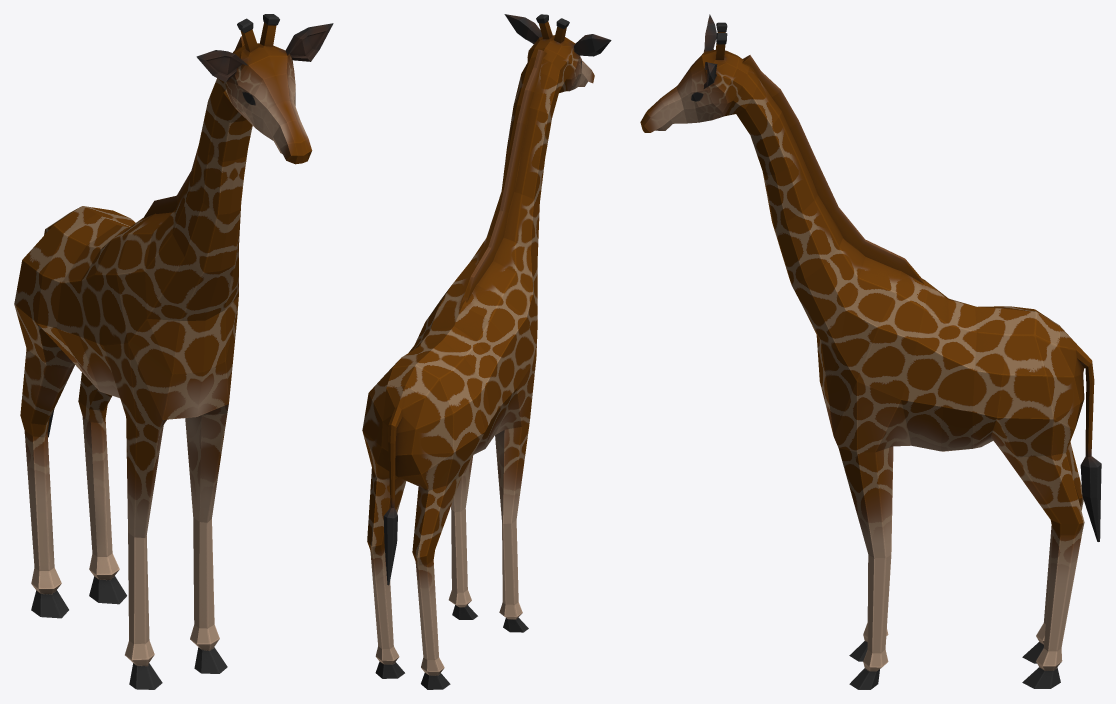
Rendered from Giraffe.obj.
The picture shows the model from 3 angles, left to right: view 1: azimuth 30°, elevation 25°; view 2: azimuth 150°, elevation 25°; view 3: azimuth 270°, elevation 25°; orthographic projection. The views are drawn at different scales.
Parts seen in each view (by area): view 1: polySurface2; view 2: polySurface2; view 3: polySurface2.
Boxes of the visible parts, x1,y1,x2,y2 form: polySurface2: [14, 14, 333, 689]; polySurface2: [362, 14, 611, 689]; polySurface2: [640, 14, 1101, 689].
Size of the model in its own units: 4.09 by 20.35 by 13.27.
1 material, 1 textured.
